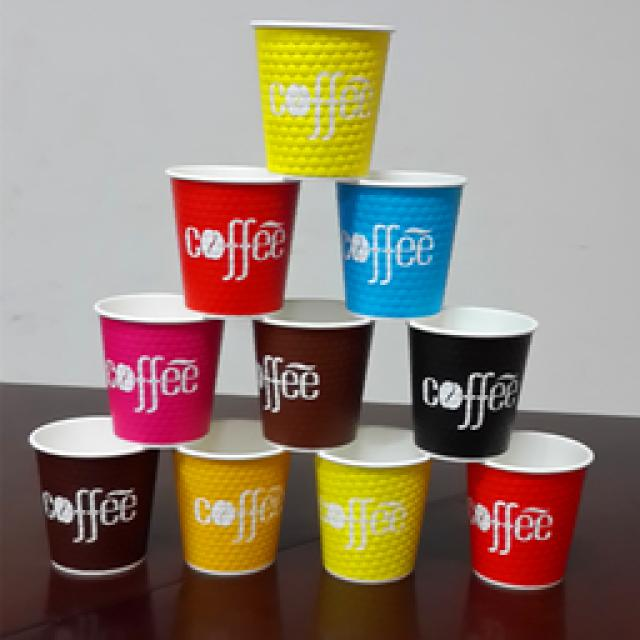paper_cups: (250, 18, 396, 184), (27, 412, 160, 578), (165, 165, 307, 320), (466, 428, 595, 593), (404, 307, 534, 463), (94, 292, 221, 450), (250, 295, 374, 453), (318, 426, 436, 588), (336, 170, 464, 318), (177, 418, 290, 576)
